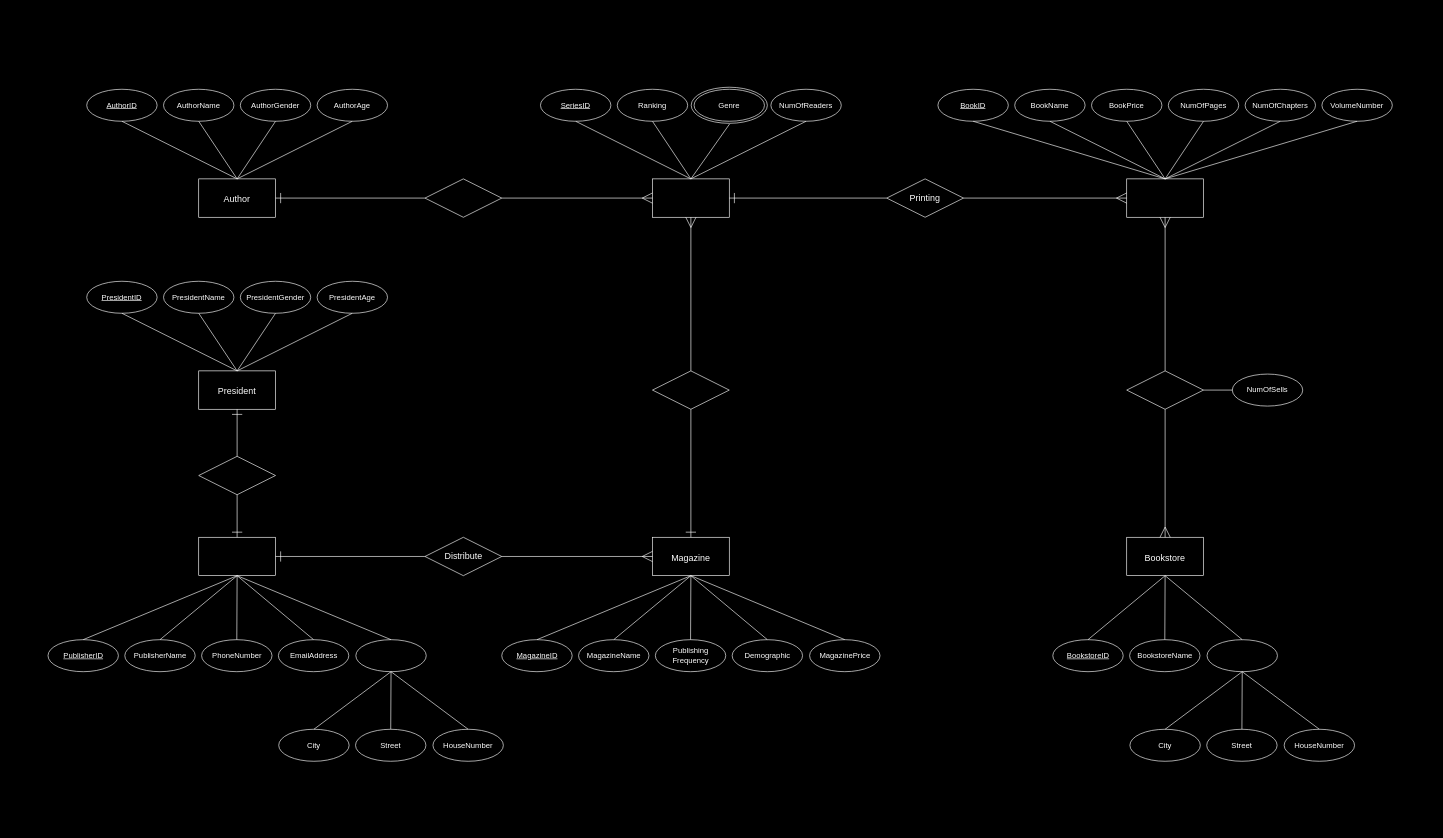
Some shapes in this 1443 by 838 pixel diagram are drawn without their labels. The shapes that lost their labels are listed below. From the top down, each one's centre as x and y in pixels, then its label:
At point (463, 197): "Ownership".
At point (690, 197): "Series".
At point (1165, 197): "Book".
At point (690, 389): "Serlialization".
At point (1165, 389): "Selling".
At point (237, 475): "Directorate".
At point (237, 556): "Publisher".
At point (390, 655): "(HQAddress)".
At point (1241, 655): "(StoreAddress)".
